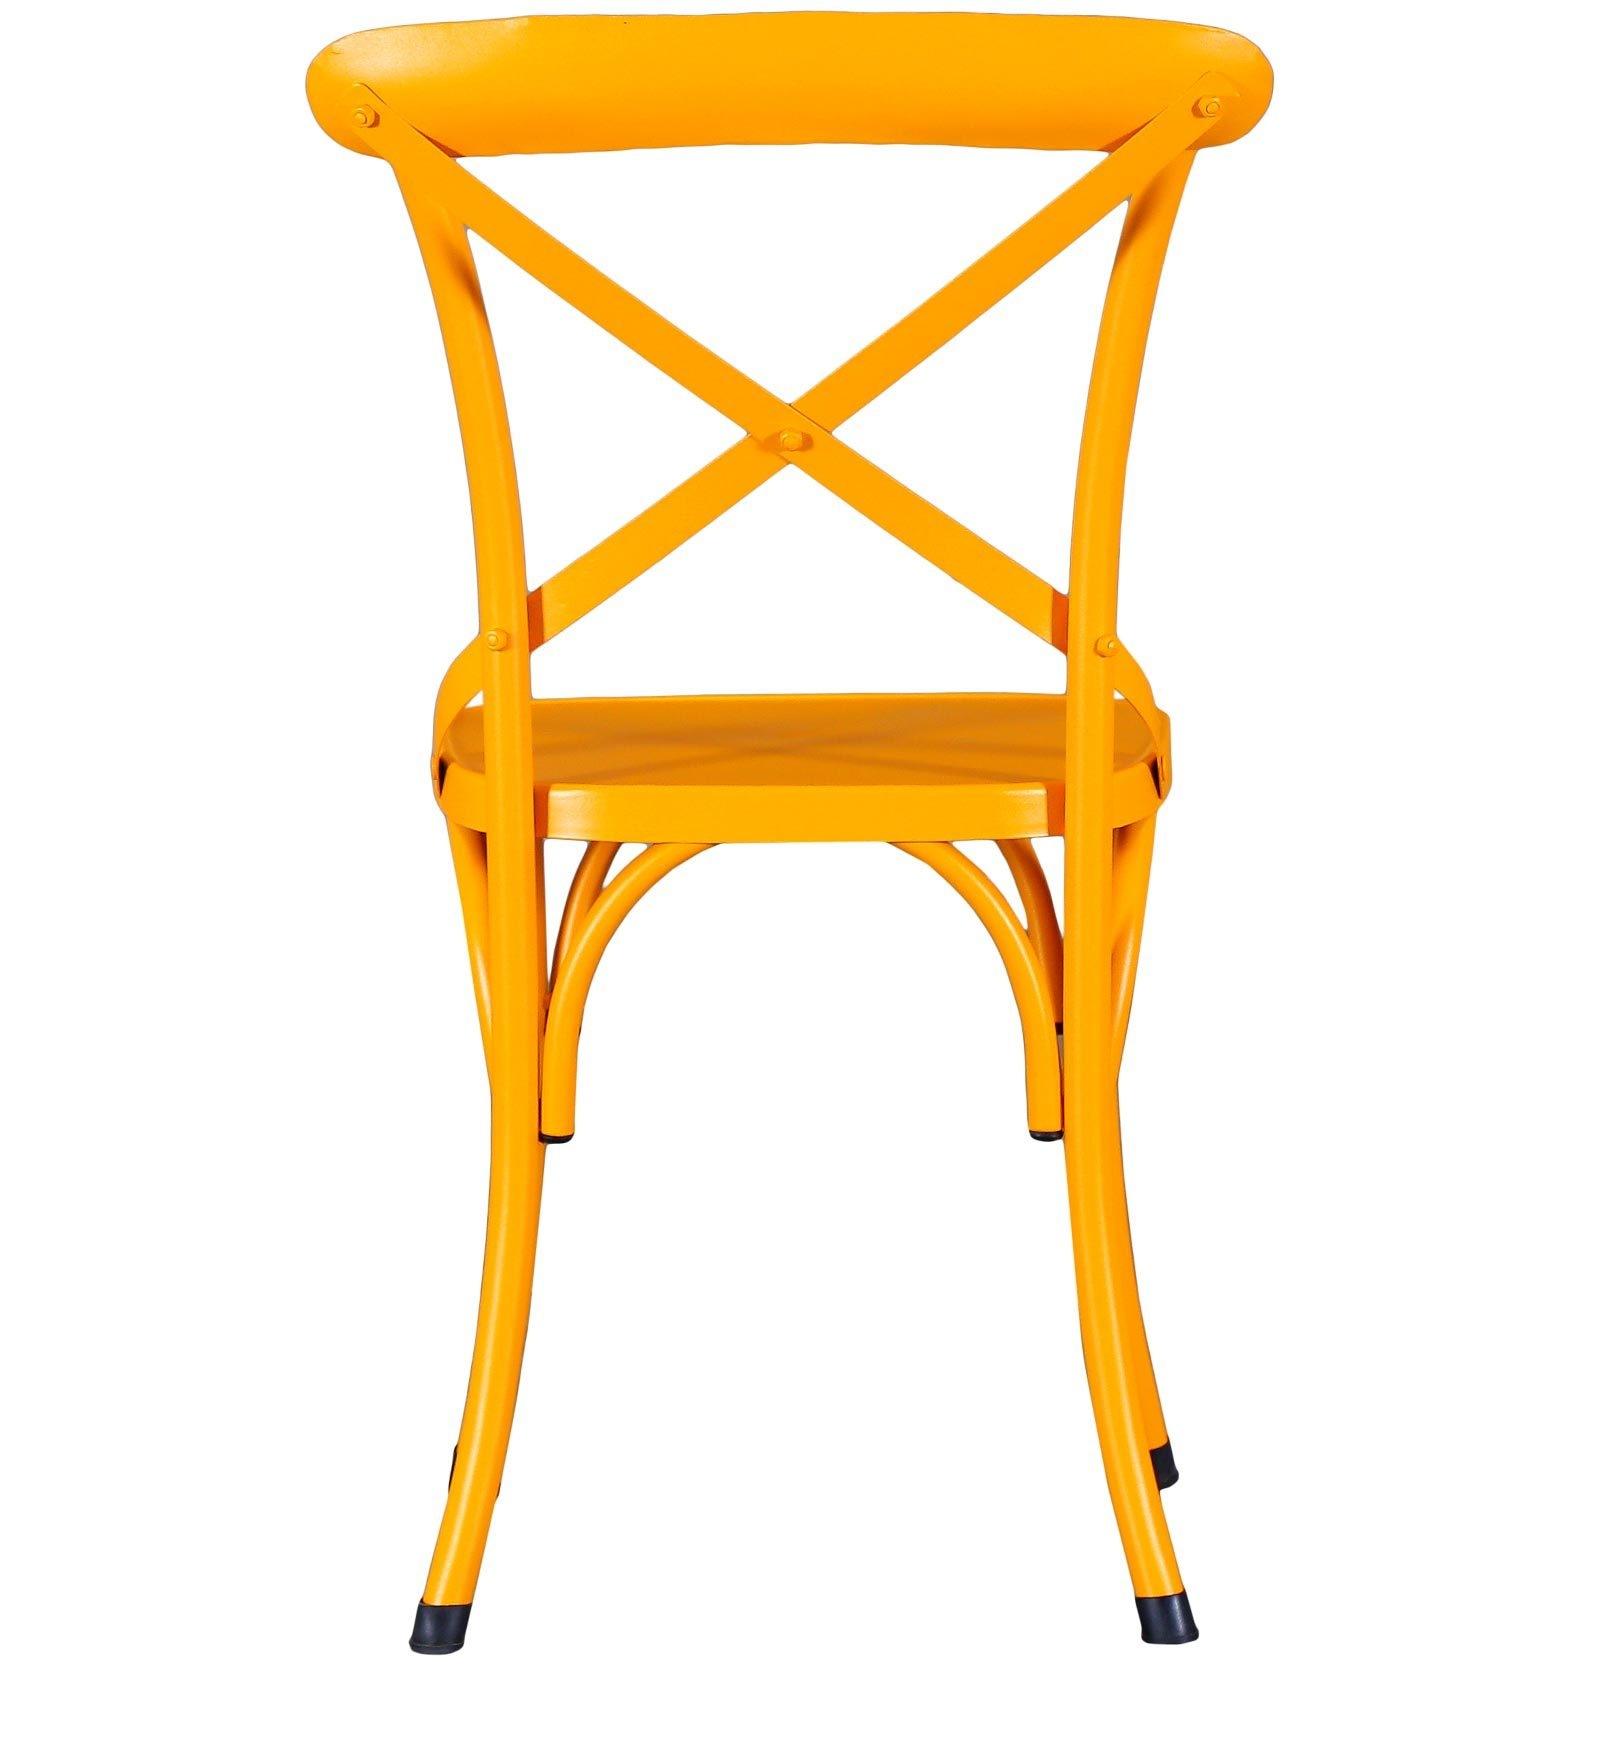Fabian Metal Chair in Yellow Color by Bohemiana: (261, 8, 1301, 1706)
